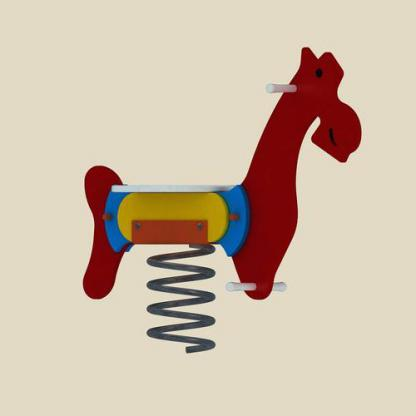FOD: (146, 244, 217, 357)
